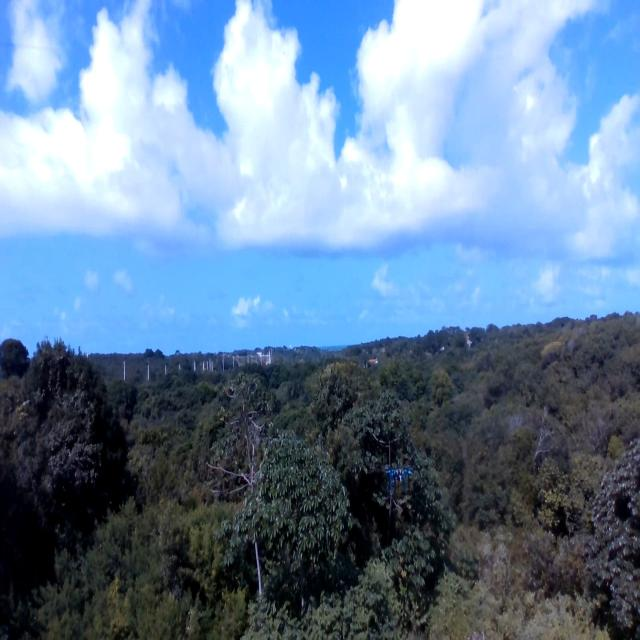-uav-: (380, 458, 413, 511)
